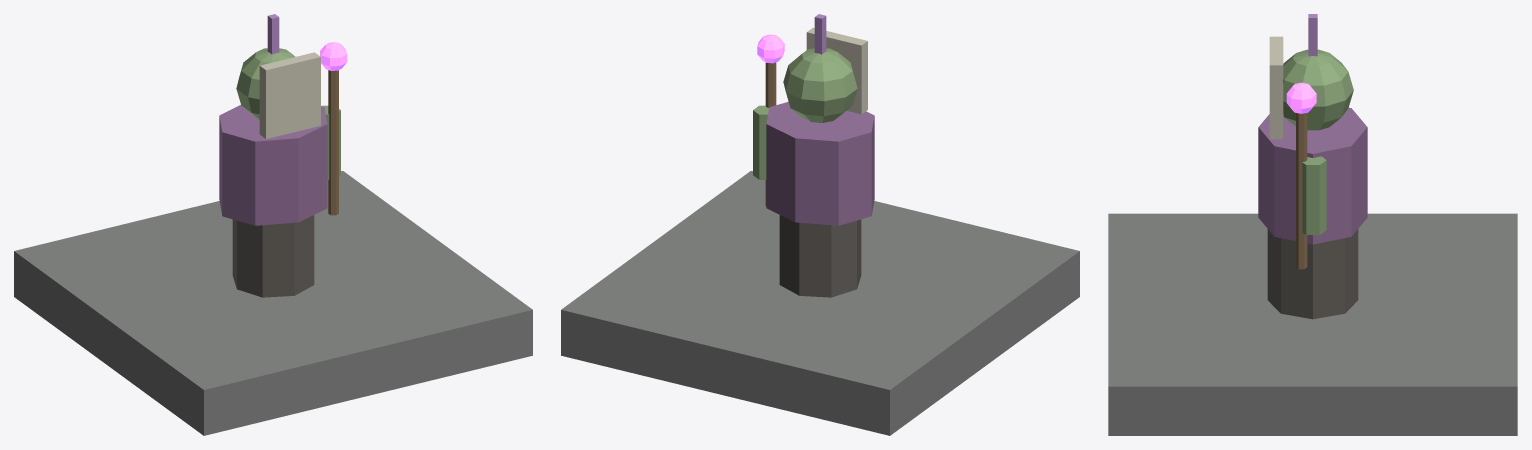
Rendered from orc_shaman.glb.
3 renders of one model, left to right at view 1: azimuth 30°, elevation 25°; view 2: azimuth 150°, elevation 25°; view 3: azimuth 270°, elevation 25°, orthographic. The views are drawn at different scales.
Parts seen in each view (by area): view 1: Base, TurretMesh, ArmMesh, Orb; view 2: Base, TurretMesh, ArmMesh, Orb; view 3: Base, TurretMesh, ArmMesh, Orb.
Boxes of the visible parts, bbox=[...] form: Base: bbox=[14, 171, 532, 435]; TurretMesh: bbox=[219, 14, 327, 297]; ArmMesh: bbox=[321, 70, 340, 215]; Orb: bbox=[320, 42, 347, 70]; Base: bbox=[561, 171, 1079, 435]; TurretMesh: bbox=[766, 14, 874, 297]; ArmMesh: bbox=[753, 62, 776, 205]; Orb: bbox=[757, 34, 784, 63]; Base: bbox=[1108, 213, 1517, 435]; TurretMesh: bbox=[1258, 14, 1367, 319]; ArmMesh: bbox=[1296, 113, 1326, 269]; Orb: bbox=[1286, 82, 1316, 113].
Bounding box in the file's own units: 1.8 × 1.62 × 1.8.
